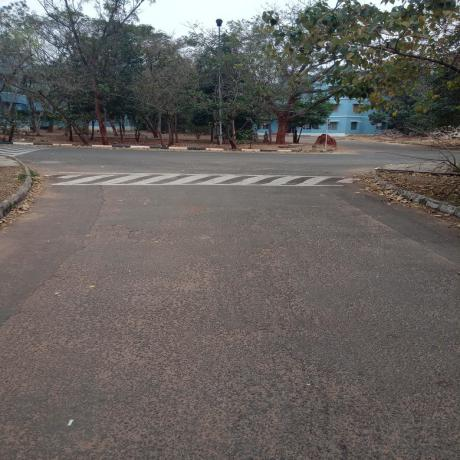Speed Bump: (38, 172, 364, 187)
